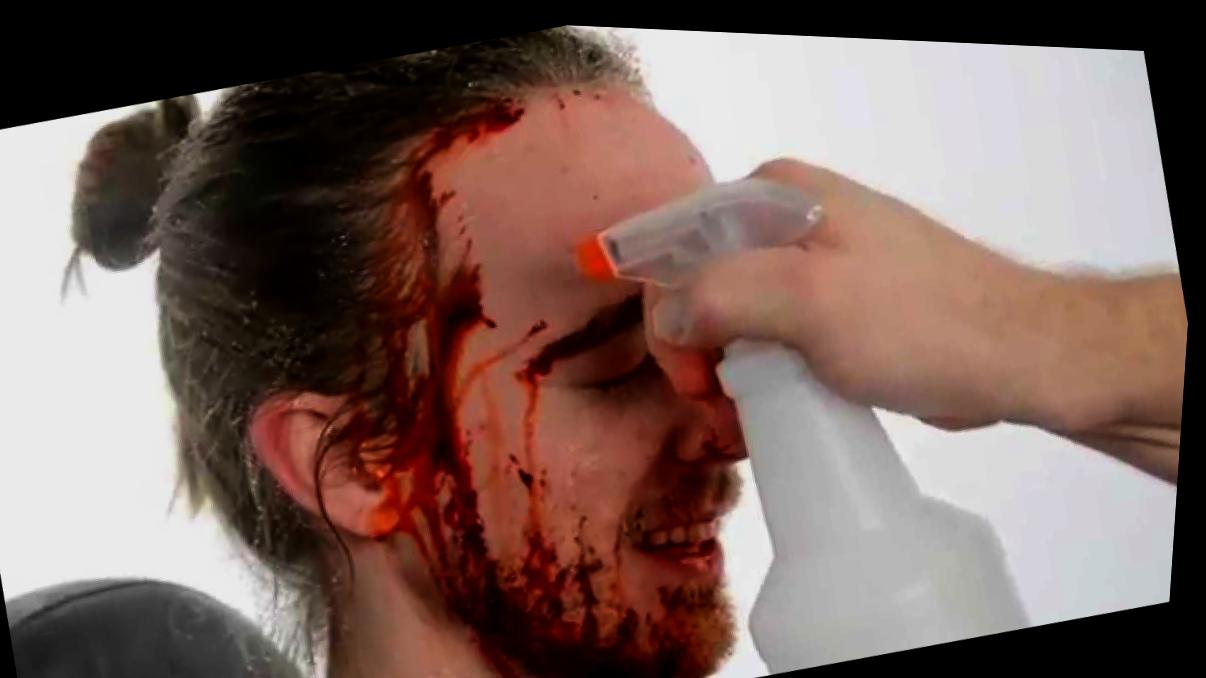Fire: (324, 83, 742, 678)
